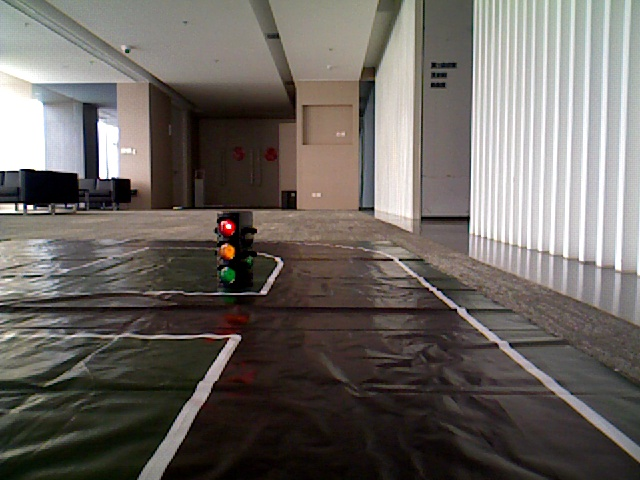red: (218, 215, 240, 285)
